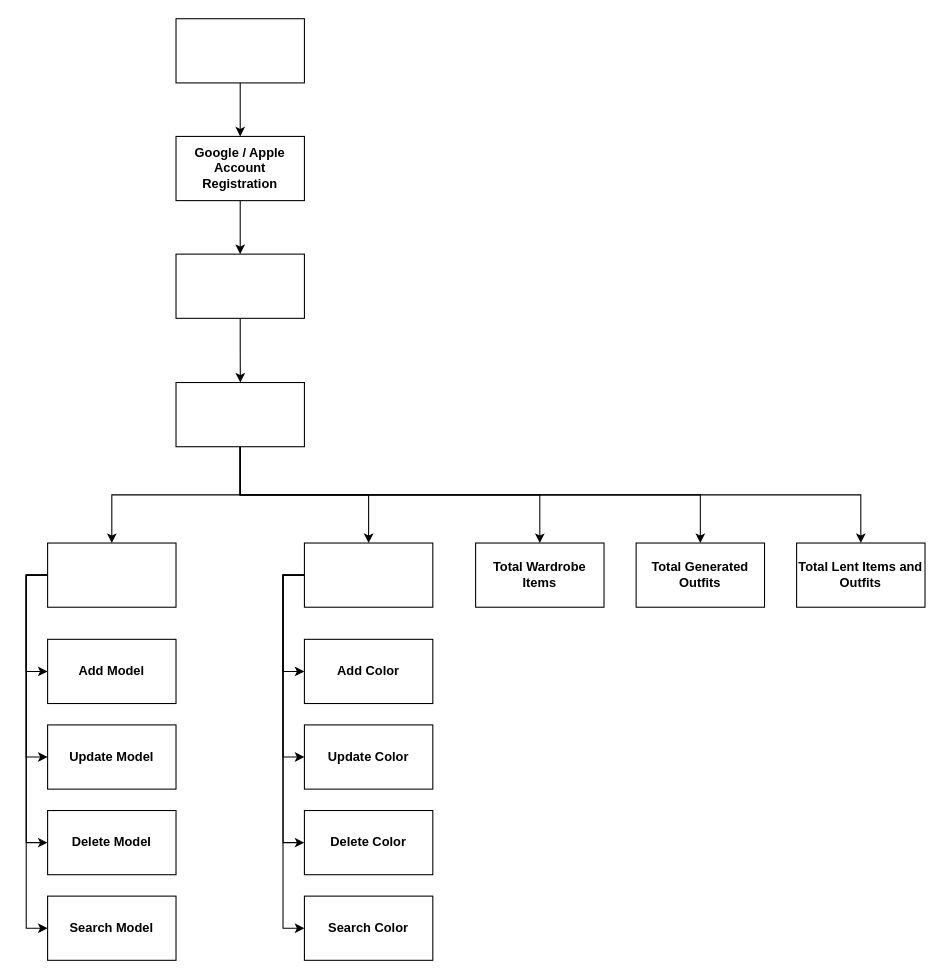
Some shapes in this 944 by 979 pixel diagram are drawn without their labels. Each missing label, with the centre of its shape:
Google / Apple Account Login: the point at 239,285
Home Tab: the point at 239,414
OOTDLY APPLICATION: the point at 239,50
Total User Added Color: the point at 368,574
Total User Added Model: the point at 111,574
